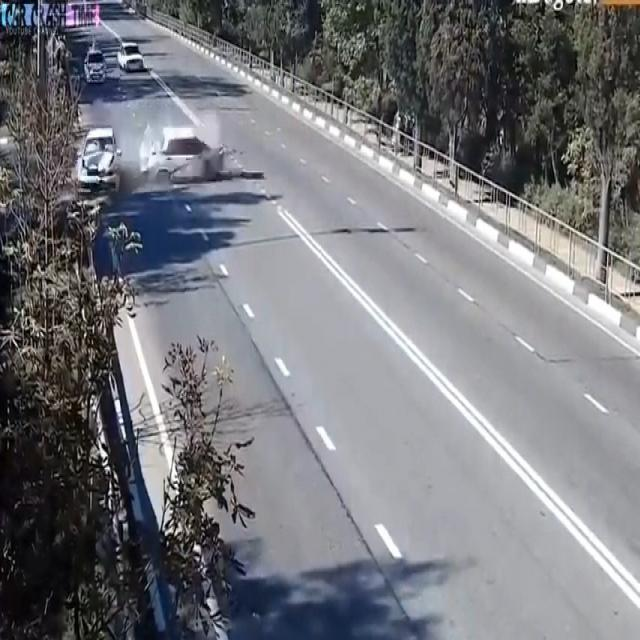Accident: (76, 113, 221, 197)
